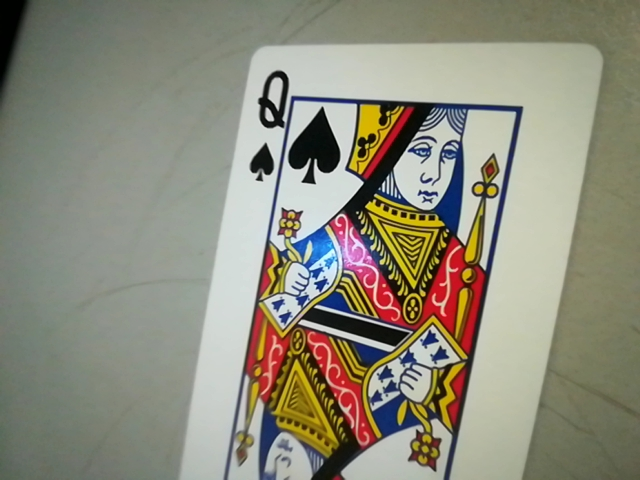ht q: (243, 65, 295, 186)
